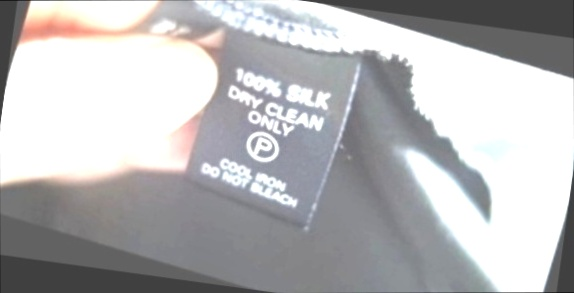dry_clean_any_solvent_except_trichloroethylene: (236, 120, 292, 173)
